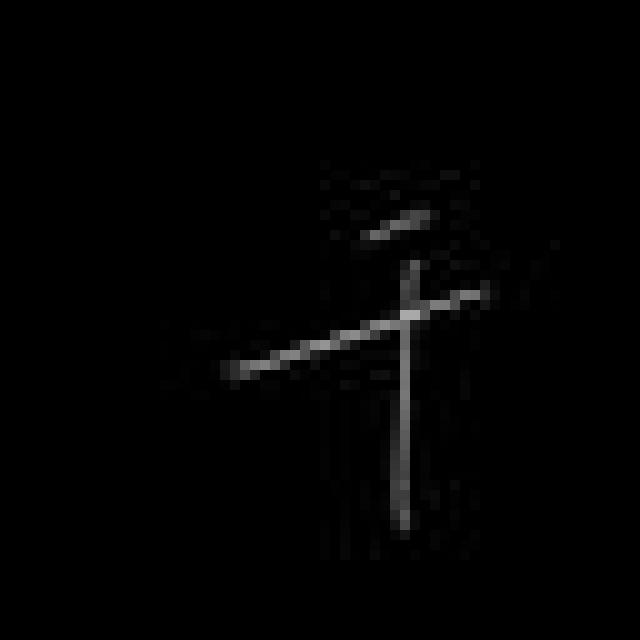1000 -a thousand-: (226, 202, 504, 542)
